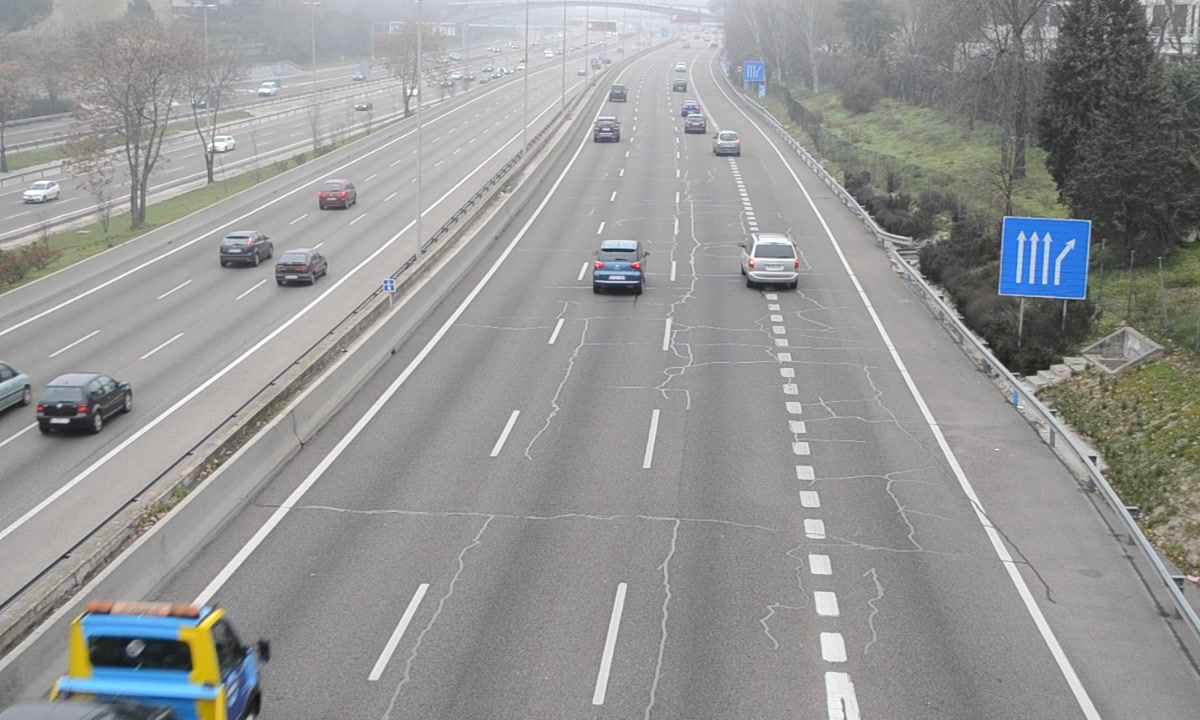car: (742, 234, 798, 286), (591, 240, 645, 293), (592, 116, 621, 144), (713, 129, 741, 157)
